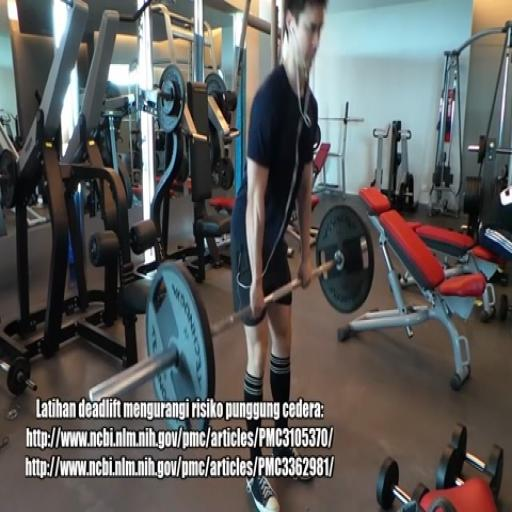exercise: (228, 0, 332, 511)
